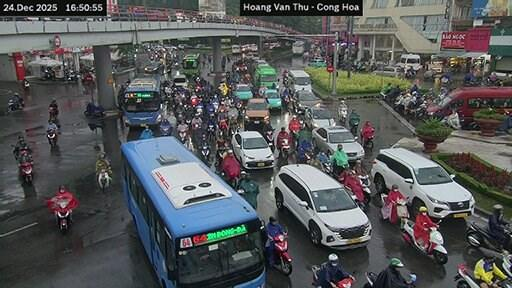motorbike: (402, 220, 447, 264), (464, 221, 501, 251), (47, 198, 76, 234), (344, 178, 370, 208), (272, 234, 291, 274), (454, 264, 480, 287), (220, 157, 239, 188), (310, 262, 326, 287), (396, 198, 409, 228), (10, 143, 31, 158), (359, 127, 374, 148), (96, 169, 109, 193), (442, 112, 460, 129), (83, 102, 103, 116), (19, 162, 31, 184), (214, 145, 226, 166), (362, 271, 377, 287), (358, 174, 370, 193), (6, 99, 22, 112), (199, 140, 208, 163), (502, 252, 511, 275), (413, 100, 425, 117), (47, 130, 57, 147), (337, 277, 354, 287), (217, 118, 226, 136), (48, 113, 60, 126), (265, 130, 272, 152), (159, 121, 170, 135), (492, 278, 511, 286), (280, 138, 288, 157), (406, 273, 416, 287), (348, 120, 358, 134), (178, 130, 188, 144), (138, 129, 153, 138), (339, 106, 346, 125), (41, 68, 53, 79), (208, 124, 216, 140), (66, 70, 76, 81), (227, 126, 237, 136), (48, 106, 57, 117), (403, 68, 415, 76), (380, 193, 387, 206), (22, 79, 28, 90), (504, 247, 511, 250), (489, 284, 492, 286), (339, 172, 342, 174), (508, 234, 511, 235), (380, 214, 383, 215), (338, 178, 339, 180)
